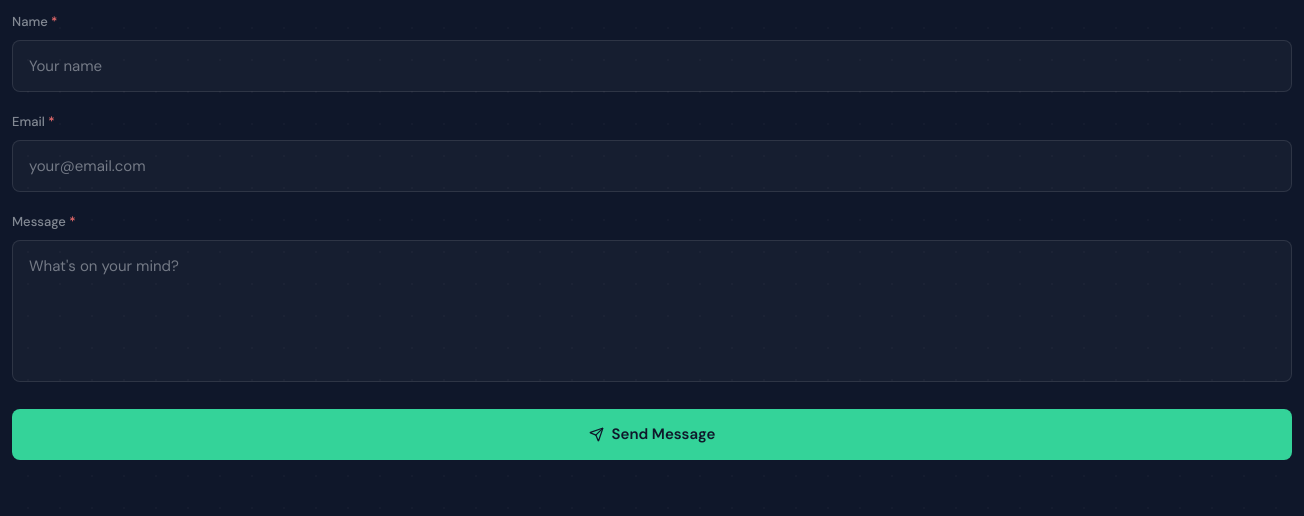
it: ContactForm › shows error state when submission fails
Type "Test User" into the field labelled "Name *" at (652, 66), box [12,40,1292,92]
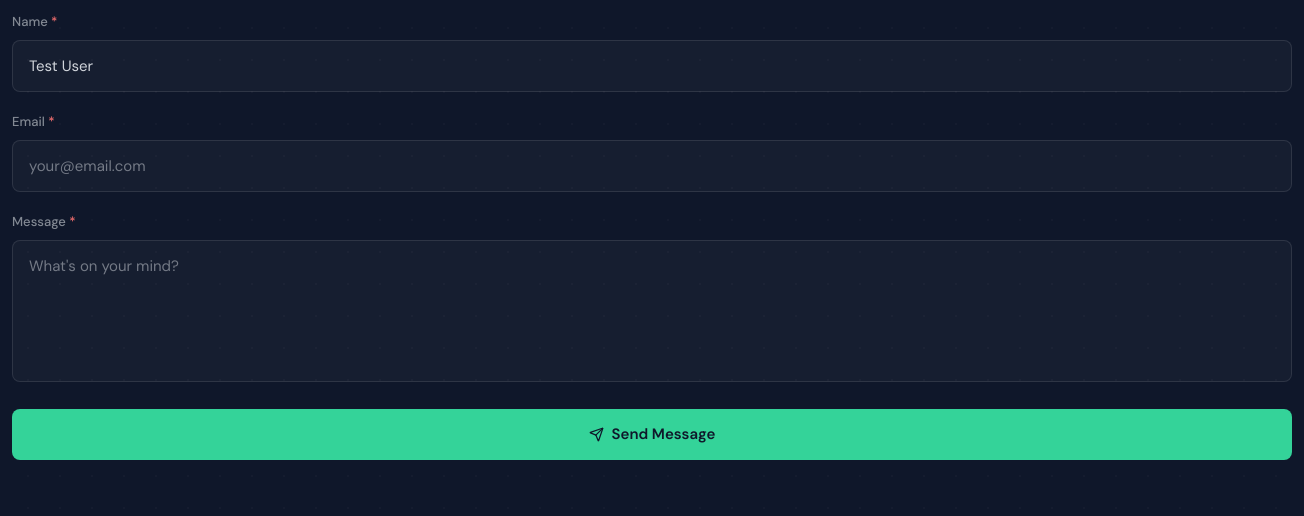
Type "test@example.com" into the field labelled "Email *" at (652, 166), box [12,140,1292,192]
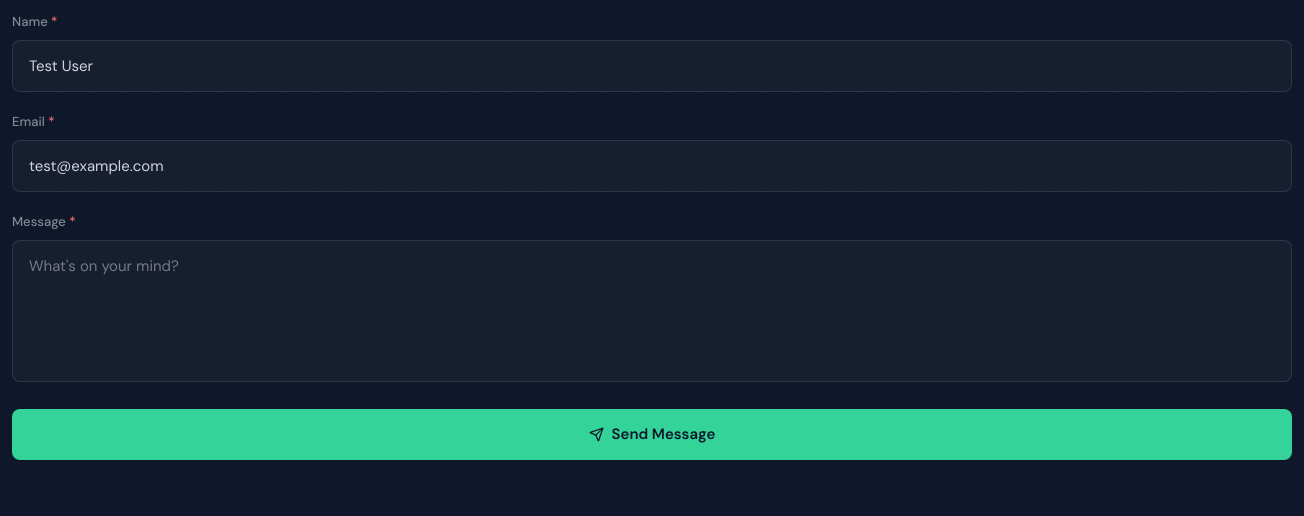
Type "Hello, this is a long enough message." into the text box labelled "Message *" at (652, 311), box [12,240,1292,382]
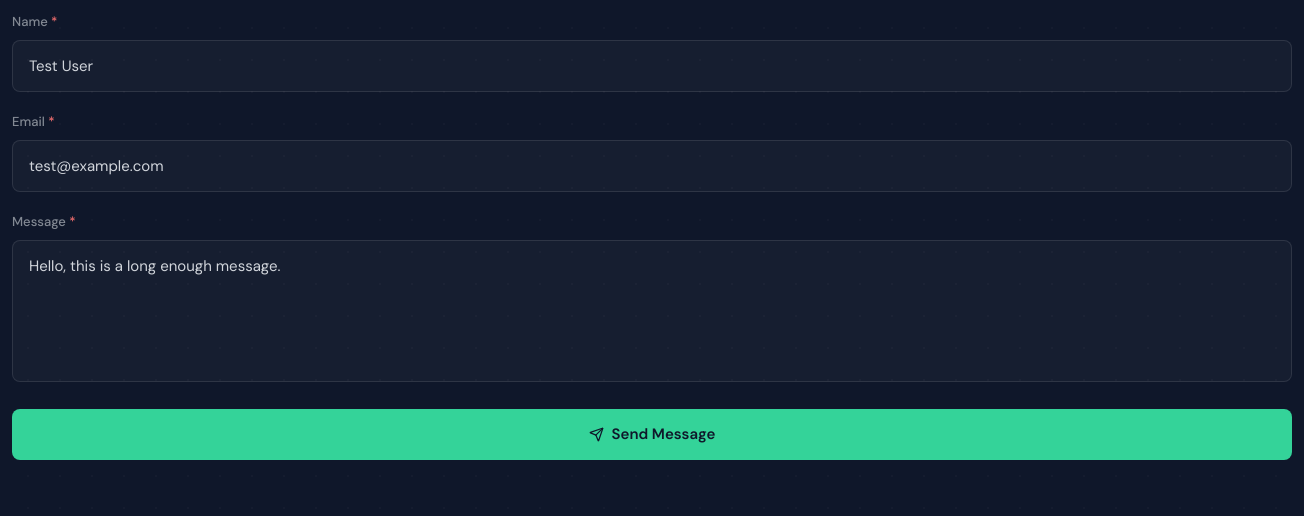
Click the button "Send Message" at (652, 434), box [12,409,1292,460]
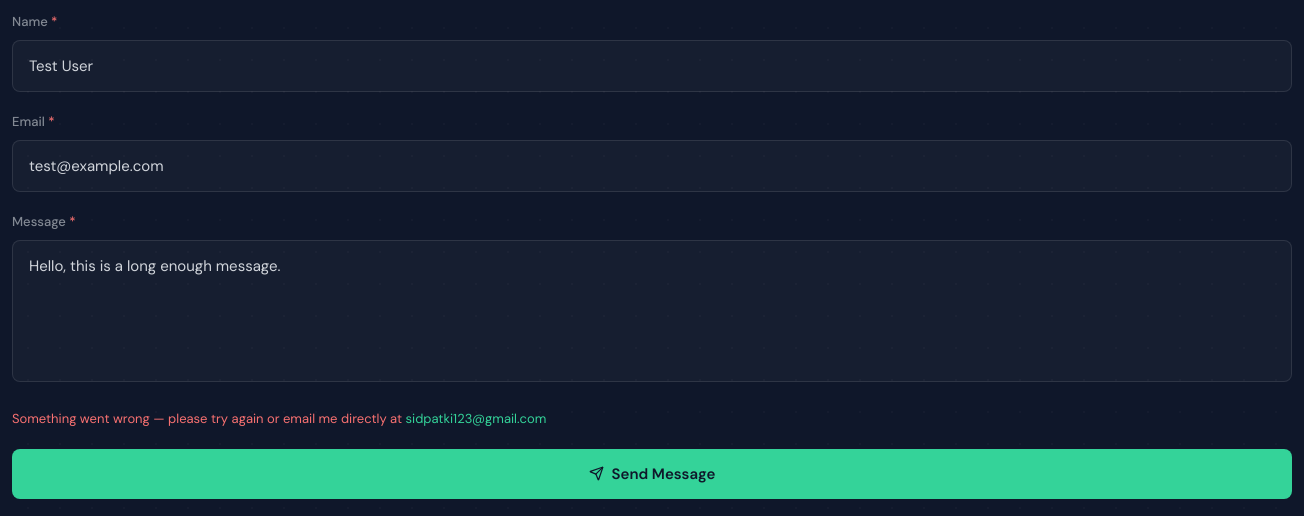
Expected: the text "Something went wrong" is shown, [12,410,402,427]
